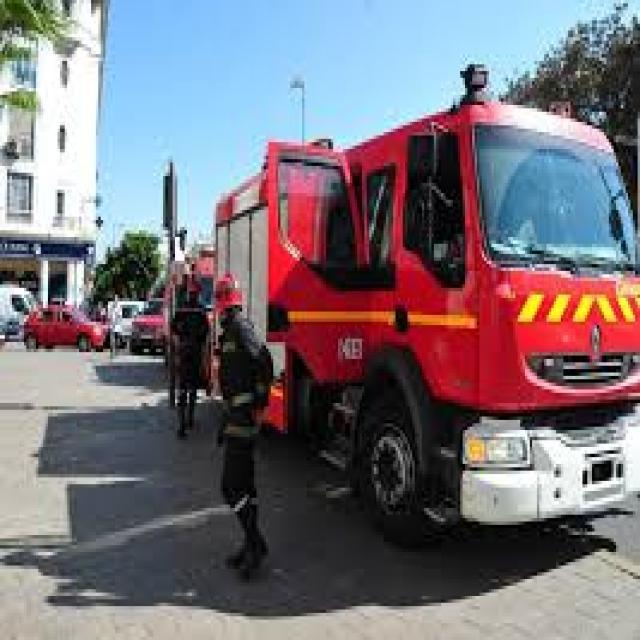emergency: (202, 107, 640, 556)
